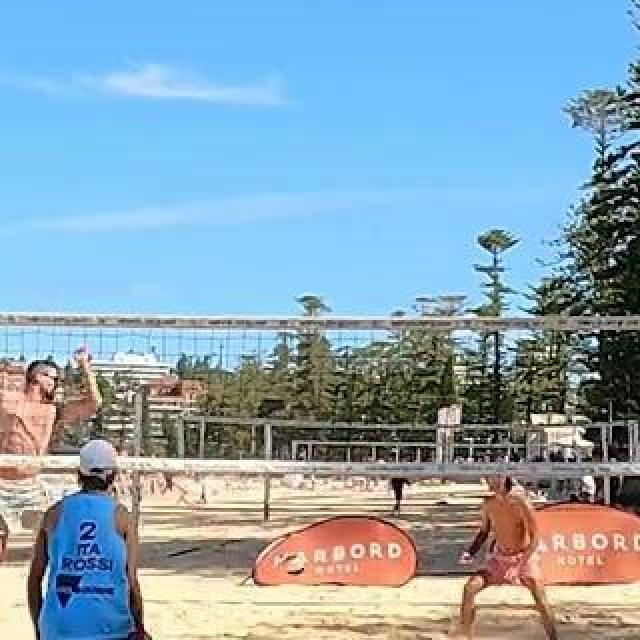volleyball: (285, 553, 305, 575)
